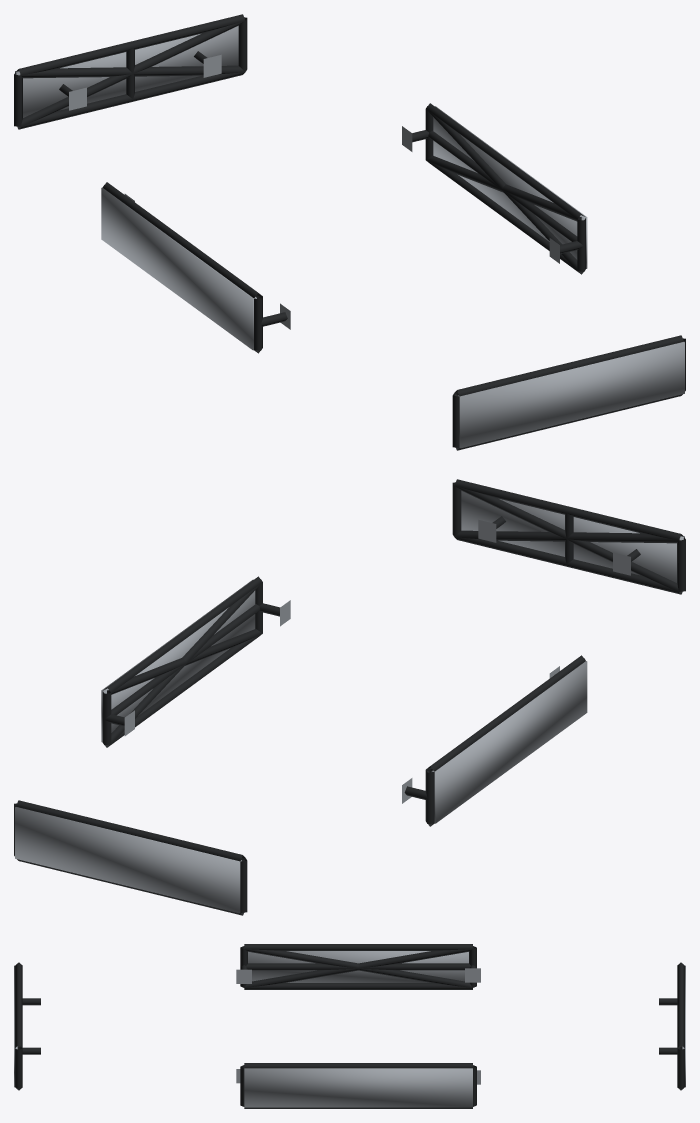
Rendered from hozuki_moncao_protecao.glb.
3 renders of one model, top to bottom at view 1: azimuth 30°, elevation 25°; view 2: azimuth 150°, elevation 25°; view 3: azimuth 270°, elevation 25°, orthographic. The views are drawn at different scales.
Visible parts, largest first — view 1: Protection_front_Level3_Details, Protection_left_Level3_Details, Protection_rear_Level1_Details, Protection_rear_Level3_Details, Protection_right_Level1_Details, Protection_rear_Level2_Details, Protection_right_Level2_Details, Protection_right_Level3_Details, Protection_front_Level1_Details, Protection_left_Level1_Details; view 2: Protection_rear_Level3_Details, Protection_left_Level3_Details, Protection_front_Level1_Details, Protection_front_Level3_Details, Protection_right_Level1_Details, Protection_front_Level2_Details, Protection_right_Level2_Details, Protection_right_Level3_Details, Protection_rear_Level1_Details, Protection_left_Level1_Details; view 3: Protection_right_Level3_Details, Protection_left_Level2_Details, Protection_left_Level1_Details, Protection_left_Level3_Details, Protection_right_Level1_Details, Protection_rear_Level1_Details, Protection_front_Level1_Details.
Boxes of the visible parts, x1,y1,x2,y2 form: Protection_front_Level3_Details: (458,342,684,448); Protection_left_Level3_Details: (101,187,256,350); Protection_rear_Level1_Details: (14,14,247,129); Protection_rear_Level3_Details: (15,26,238,117); Protection_right_Level1_Details: (402,103,585,274); Protection_rear_Level2_Details: (16,21,245,128); Protection_right_Level2_Details: (426,109,584,273); Protection_right_Level3_Details: (433,106,587,268); Protection_front_Level1_Details: (452,335,685,450); Protection_left_Level1_Details: (102,182,290,353); Protection_rear_Level3_Details: (15,807,241,913); Protection_left_Level3_Details: (431,661,587,823); Protection_front_Level1_Details: (452,479,685,594); Protection_front_Level3_Details: (461,491,684,582); Protection_right_Level1_Details: (102,576,290,747); Protection_front_Level2_Details: (454,486,683,593); Protection_right_Level2_Details: (103,582,262,747); Protection_right_Level3_Details: (101,579,255,742); Protection_rear_Level1_Details: (14,800,247,915); Protection_left_Level1_Details: (402,655,585,826); Protection_right_Level3_Details: (244,1068,472,1107); Protection_left_Level2_Details: (243,946,473,987); Protection_left_Level1_Details: (236,944,480,989); Protection_left_Level3_Details: (248,951,468,982); Protection_right_Level1_Details: (236,1063,480,1108); Protection_rear_Level1_Details: (659,962,684,1090); Protection_front_Level1_Details: (15,962,40,1090).
Bounding box in the file's own units: 2.04 × 0.354 × 4.7.
Materials: 1 (1 with a texture image).
